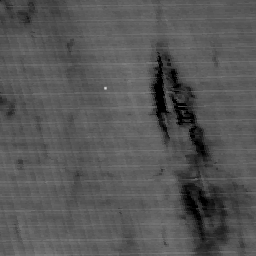Target: (102, 84, 109, 92)
